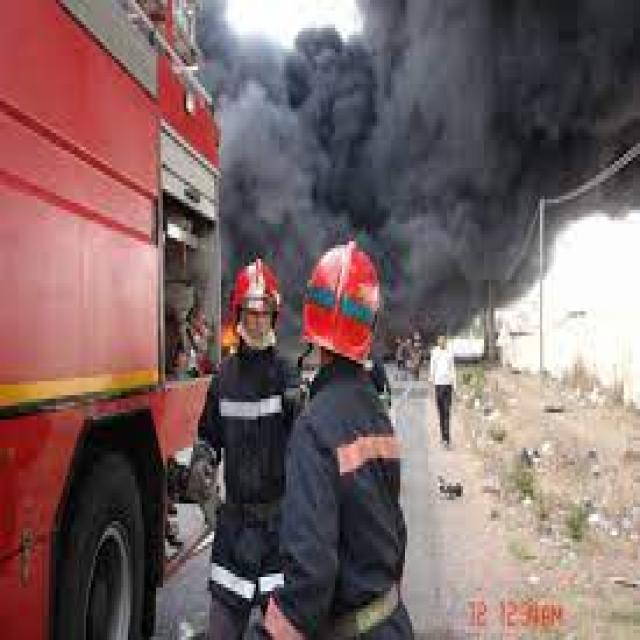pompier: (5, 0, 222, 640)
